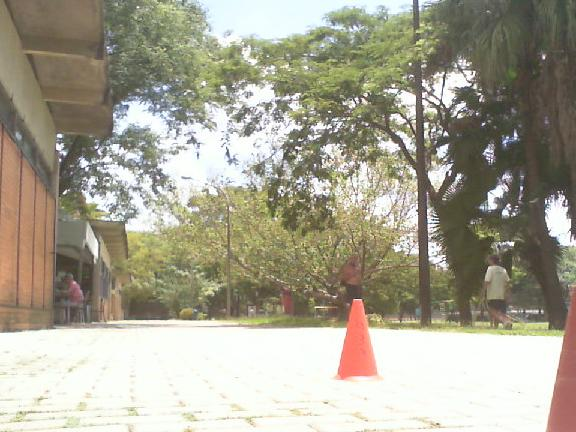0 cone: (525, 285, 576, 432), (331, 299, 384, 383)
